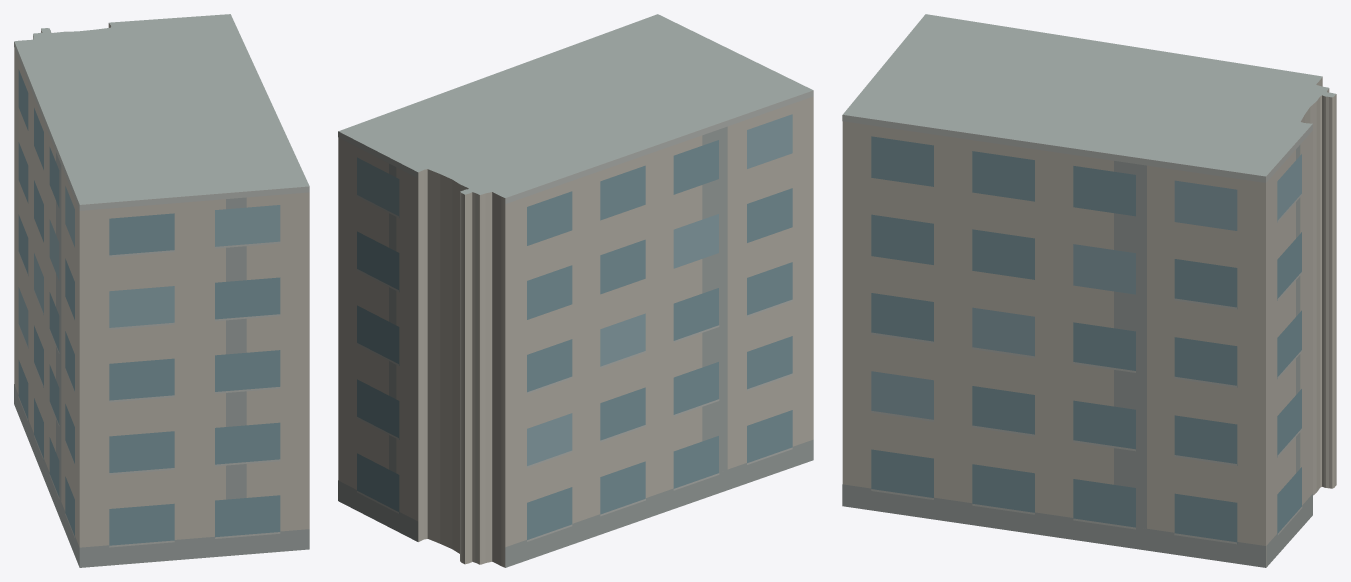
File: survey-upis-32884959.glb
The picture shows the model from 3 angles, left to right: view 1: azimuth 30°, elevation 25°; view 2: azimuth 150°, elevation 25°; view 3: azimuth 270°, elevation 25°; orthographic projection. The views are drawn at different scales.
Visible parts, largest first — view 1: survey-upis-32884959.tmp; view 2: survey-upis-32884959.tmp; view 3: survey-upis-32884959.tmp.
Boxes of the visible parts, box(x1,y1,x2,y2) form: survey-upis-32884959.tmp: box(14, 14, 309, 567); survey-upis-32884959.tmp: box(338, 14, 813, 567); survey-upis-32884959.tmp: box(842, 14, 1336, 567).
Bounding box in the file's own units: 13.23 × 14.85 × 17.
